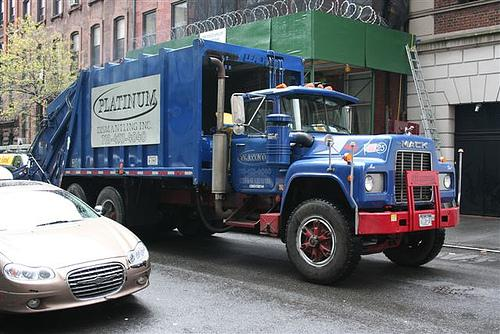truck: (11, 37, 464, 285)
